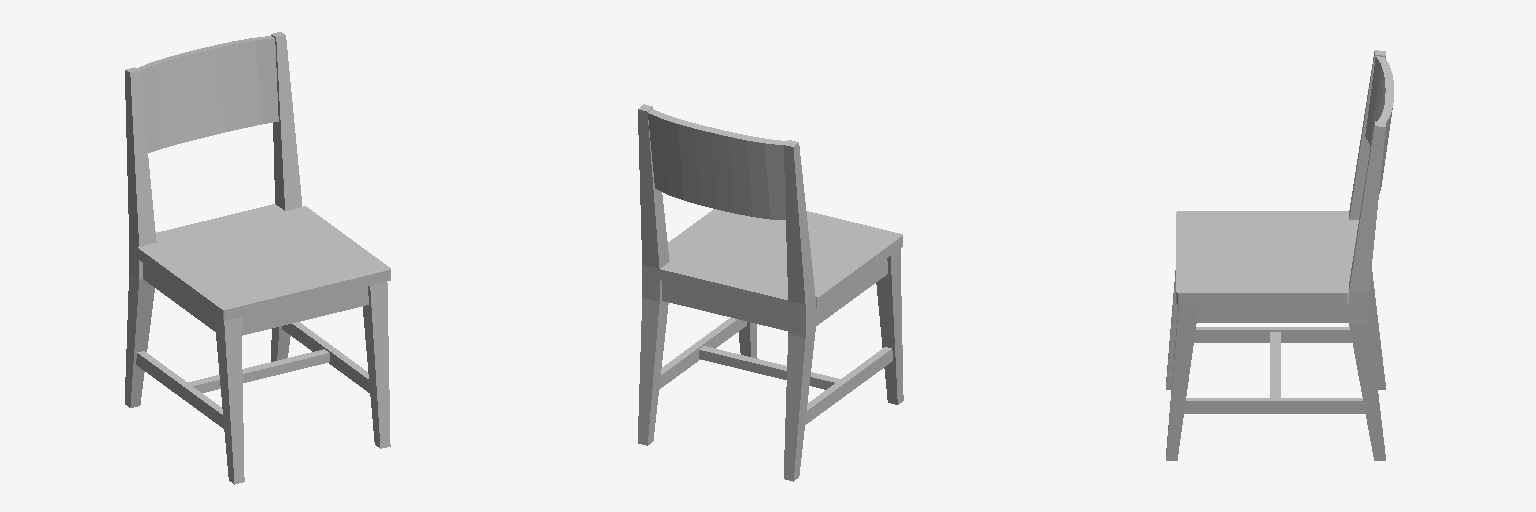
Rendered from chairTexture.obj.
3 renders of one model, left to right at view 1: azimuth 30°, elevation 25°; view 2: azimuth 150°, elevation 25°; view 3: azimuth 270°, elevation 25°, orthographic.
Visible parts, largest first — view 1: seat, backrest, backleg1 backleg2, frontleg1 frontleg2, frontbeam, legsupport1, beamsupport, legsupport2, sidebeam1; view 2: seat, backleg1 backleg2, backrest, frontleg1 frontleg2, backbeam, legsupport1, beamsupport, legsupport2, sidebeam1; view 3: seat, backleg1 backleg2, frontleg1 frontleg2, sidebeam2, legsupport2, legsupport1, backrest, beamsupport.
Boxes of the visible parts, x1=… form: seat: x1=138, y1=204, x2=390, y2=320; backrest: x1=137, y1=36, x2=278, y2=152; backleg1 backleg2: x1=125, y1=32, x2=302, y2=407; frontleg1 frontleg2: x1=214, y1=282, x2=390, y2=484; frontbeam: x1=242, y1=286, x2=368, y2=335; legsupport1: x1=136, y1=351, x2=223, y2=428; beamsupport: x1=188, y1=349, x2=329, y2=392; legsupport2: x1=282, y1=322, x2=369, y2=392; sidebeam1: x1=143, y1=263, x2=215, y2=331; seat: x1=660, y1=209, x2=902, y2=310; backleg1 backleg2: x1=638, y1=104, x2=815, y2=481; backrest: x1=648, y1=109, x2=786, y2=219; frontleg1 frontleg2: x1=739, y1=248, x2=903, y2=404; backbeam: x1=662, y1=281, x2=787, y2=330; legsupport1: x1=805, y1=347, x2=892, y2=424; beamsupport: x1=699, y1=346, x2=839, y2=389; legsupport2: x1=659, y1=318, x2=746, y2=389; sidebeam1: x1=816, y1=259, x2=887, y2=325; seat: x1=1176, y1=211, x2=1358, y2=303; backleg1 backleg2: x1=1349, y1=50, x2=1385, y2=460; frontleg1 frontleg2: x1=1166, y1=270, x2=1198, y2=460; sidebeam2: x1=1197, y1=304, x2=1348, y2=322; legsupport2: x1=1184, y1=398, x2=1364, y2=413; legsupport1: x1=1194, y1=327, x2=1351, y2=342; backrest: x1=1365, y1=56, x2=1393, y2=193; beamsupport: x1=1270, y1=332, x2=1280, y2=397.
Size of the model in its own units: 71.29 by 135 by 83.46.